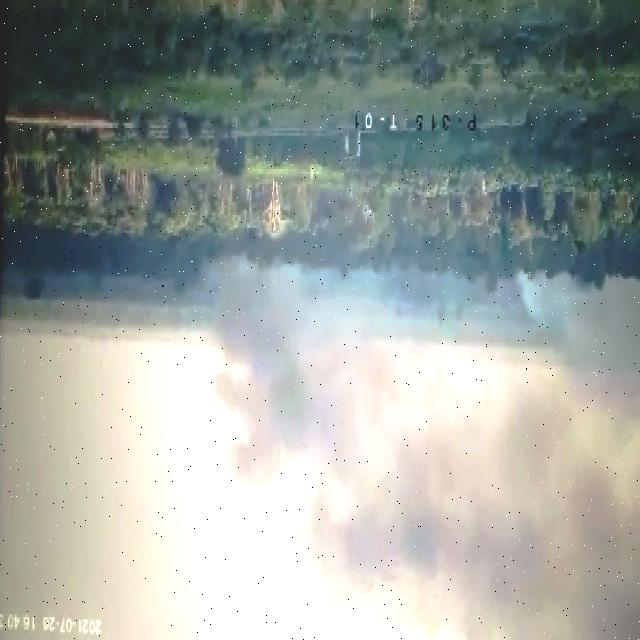asap: (196, 239, 640, 640), (511, 258, 640, 452)
